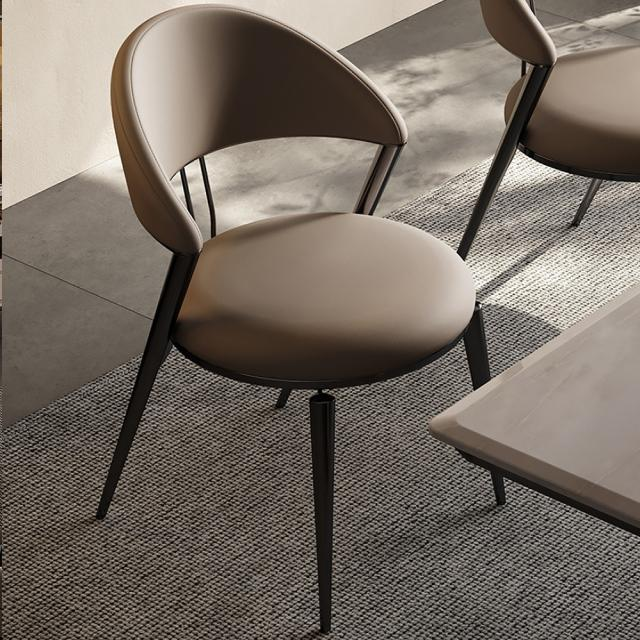chair: (93, 0, 507, 638), (134, 0, 471, 432), (449, 0, 640, 270), (482, 0, 640, 172)
